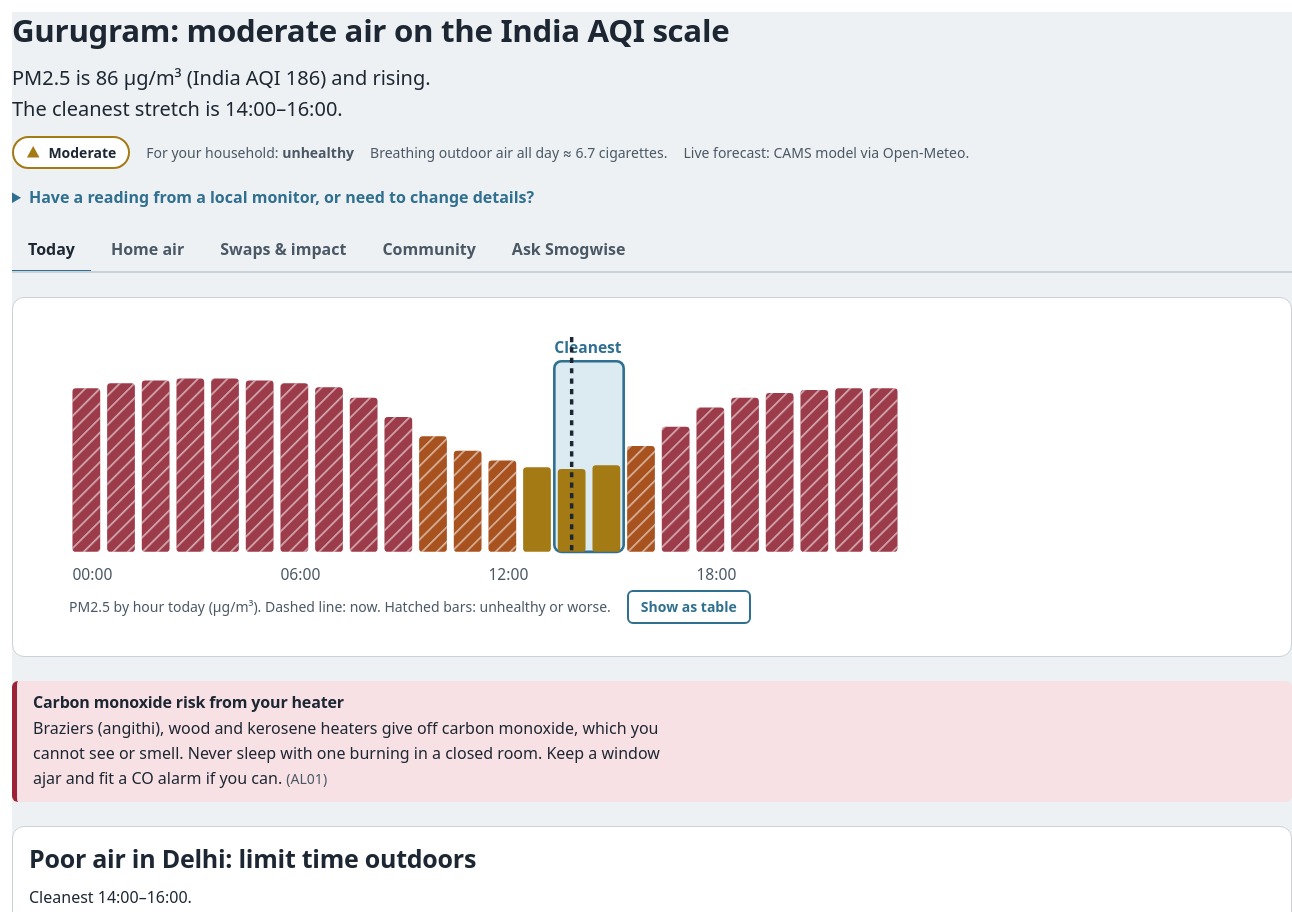
it: PlanView — Home air and Swaps › labels an undersized purifier
Click the tab "Home air" at (148, 251), box [95,229,200,273]
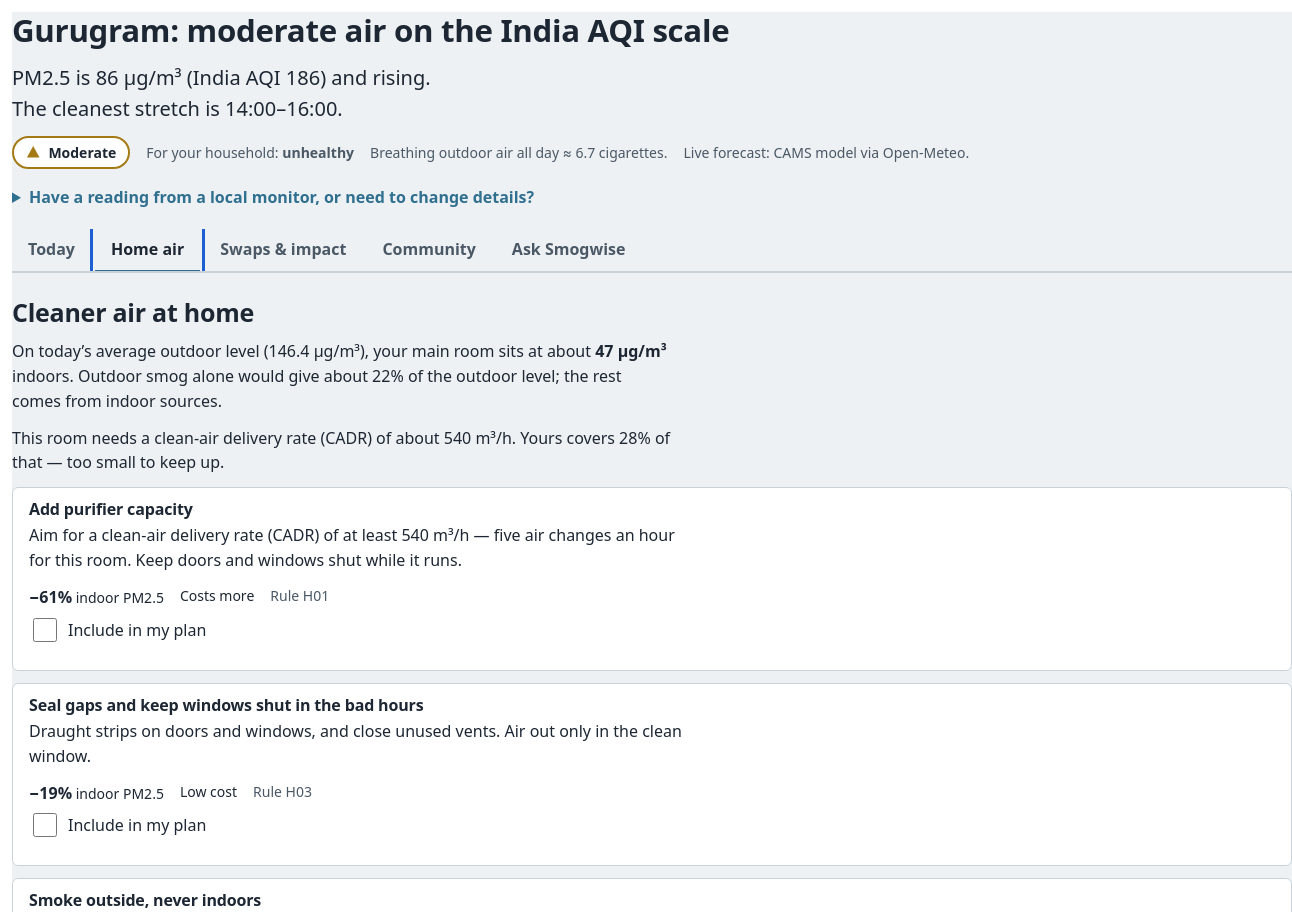
Check: the text "too small to keep up" is shown, box [12,427,670,473]
